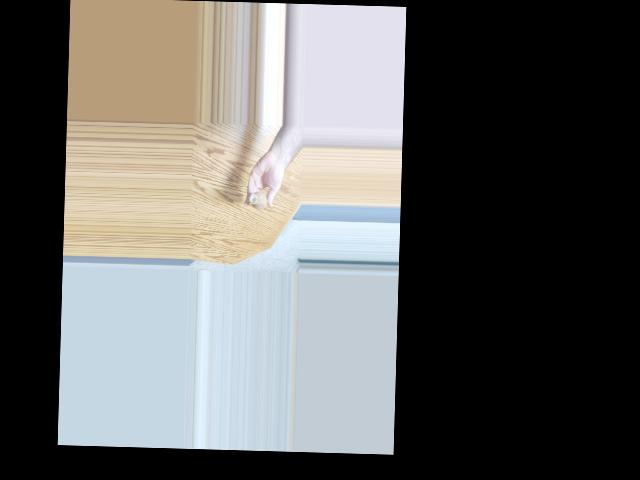sweet_potato: (250, 191, 268, 211)
